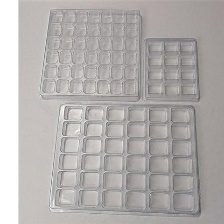plastic_box: (42, 98, 208, 222), (33, 2, 150, 105), (138, 32, 206, 105)
